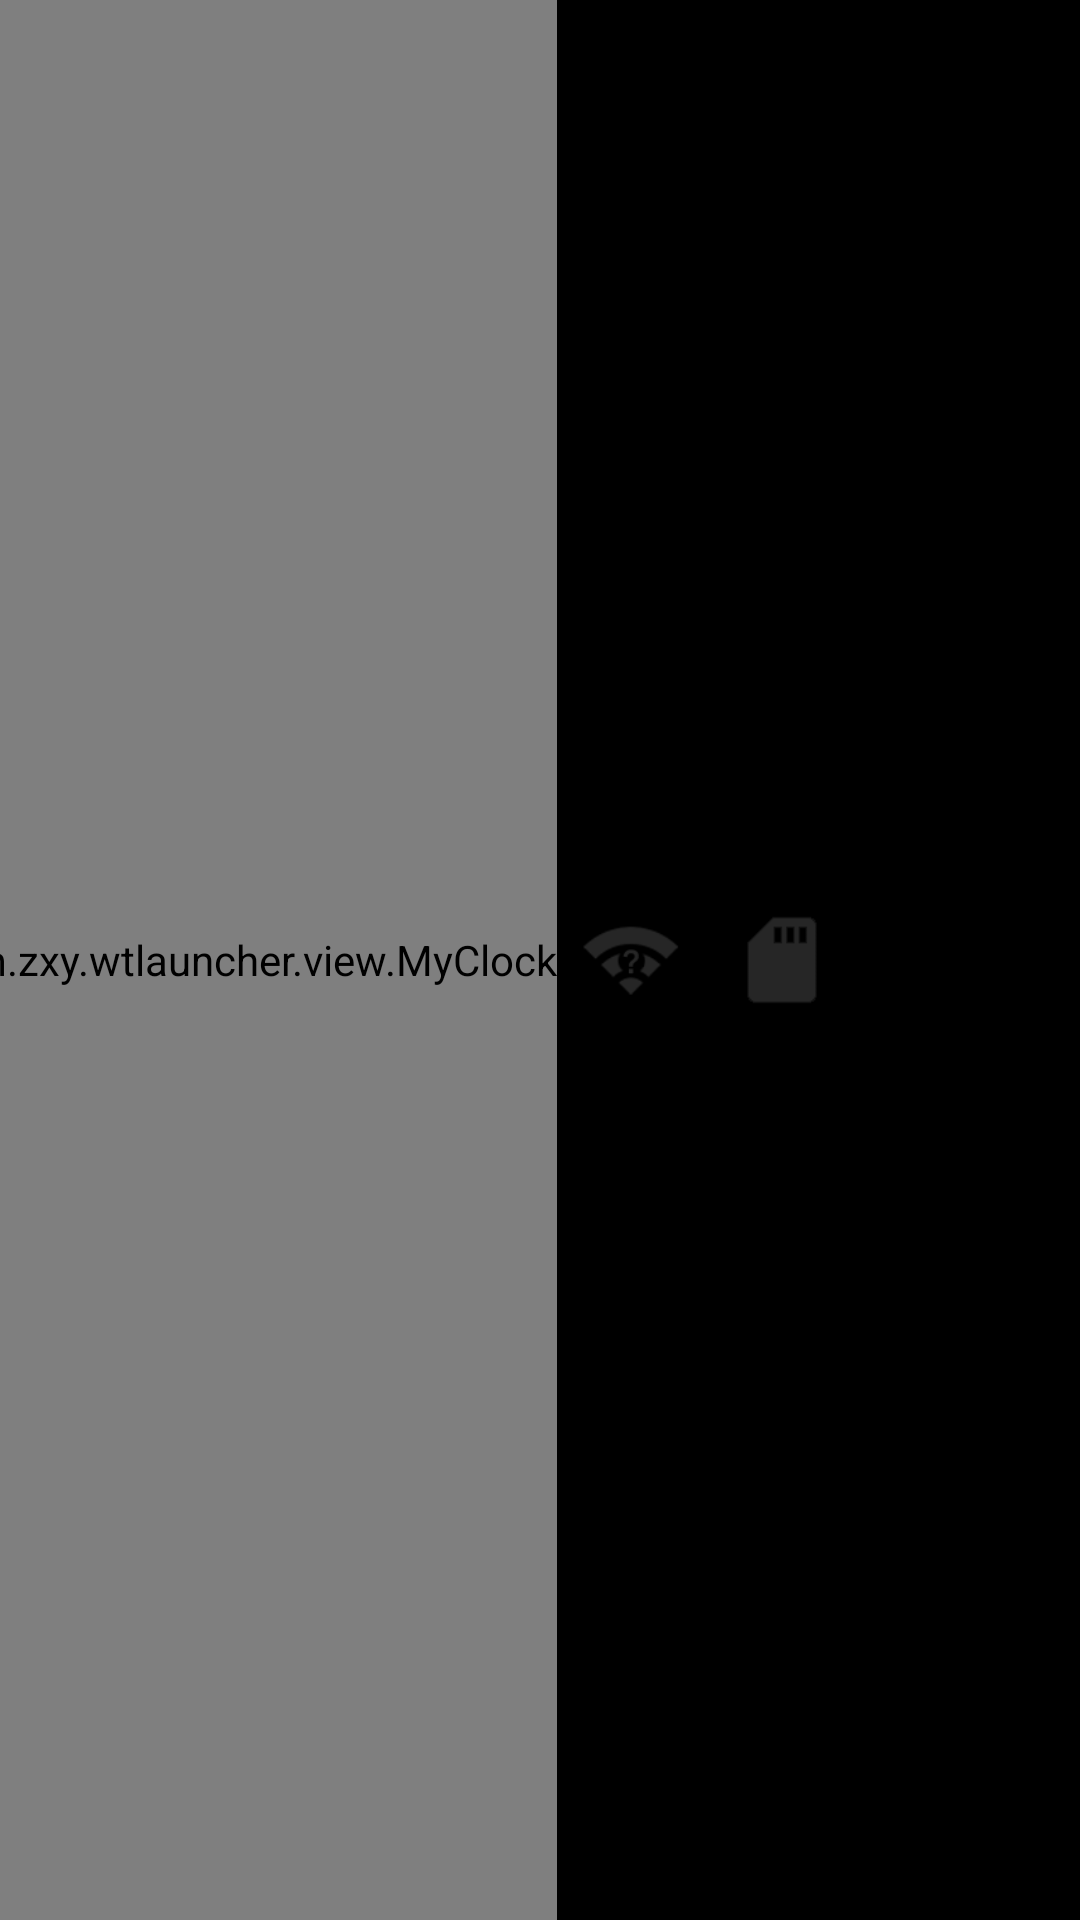

Where icons sit on this 1080px x 1920px app screen, as [x1, y1, x2, y2]:
neterror: [584, 927, 677, 994]
sdcard false: [748, 918, 816, 1002]
